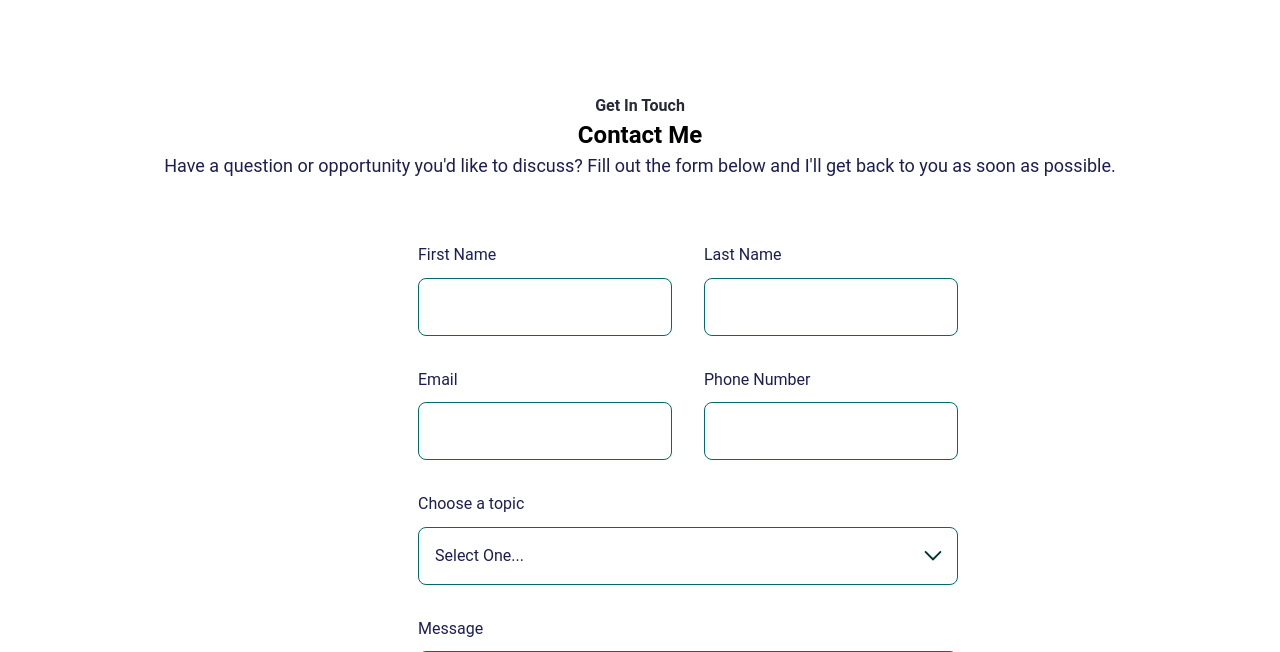
Test: ContactMe form submission › posts every field to the configured endpoint
In the field labelled "First Name": coordinates (545, 307) [418, 278, 672, 336], type "Ada"
In the field labelled "Last Name": coordinates (831, 307) [704, 278, 958, 336], type "Lovelace"
In the field labelled "Email": coordinates (545, 431) [418, 402, 672, 460], type "ada@example.com"
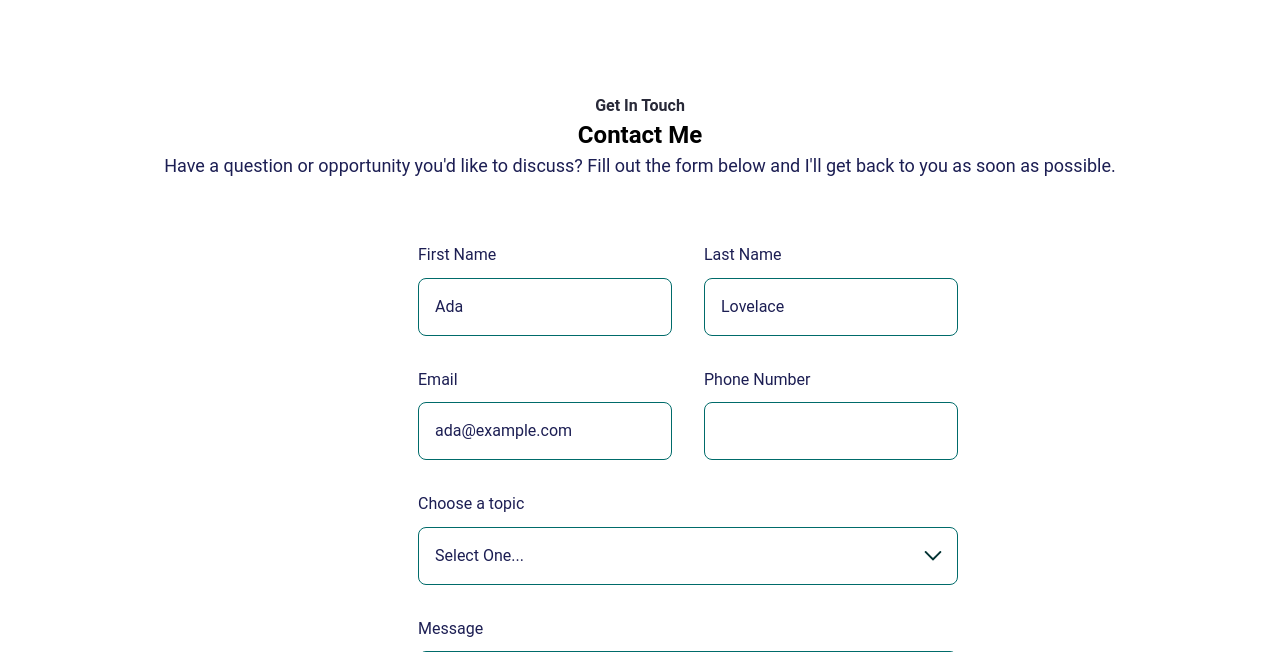
In the field labelled "Phone Number": coordinates (831, 431) [704, 402, 958, 460], type "5551234567"
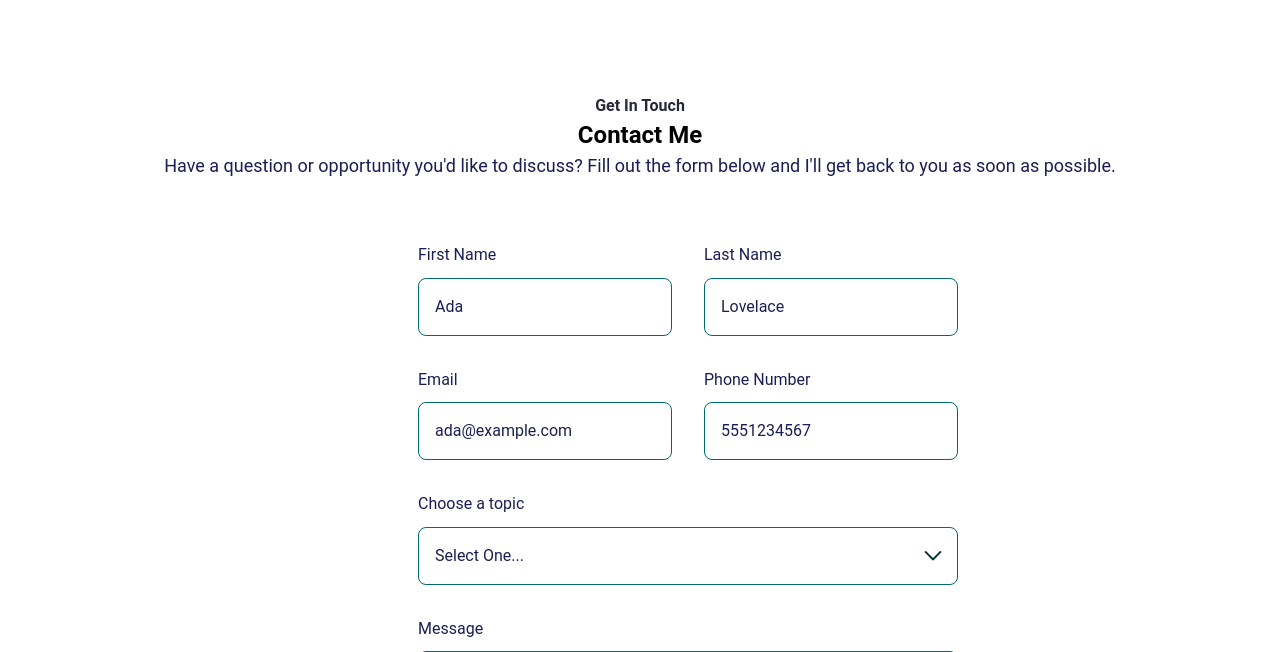
Select "Collaboration" in the dropdown labelled "Choose a topic": coordinates (688, 556) [418, 527, 958, 585]
(page scrolled)
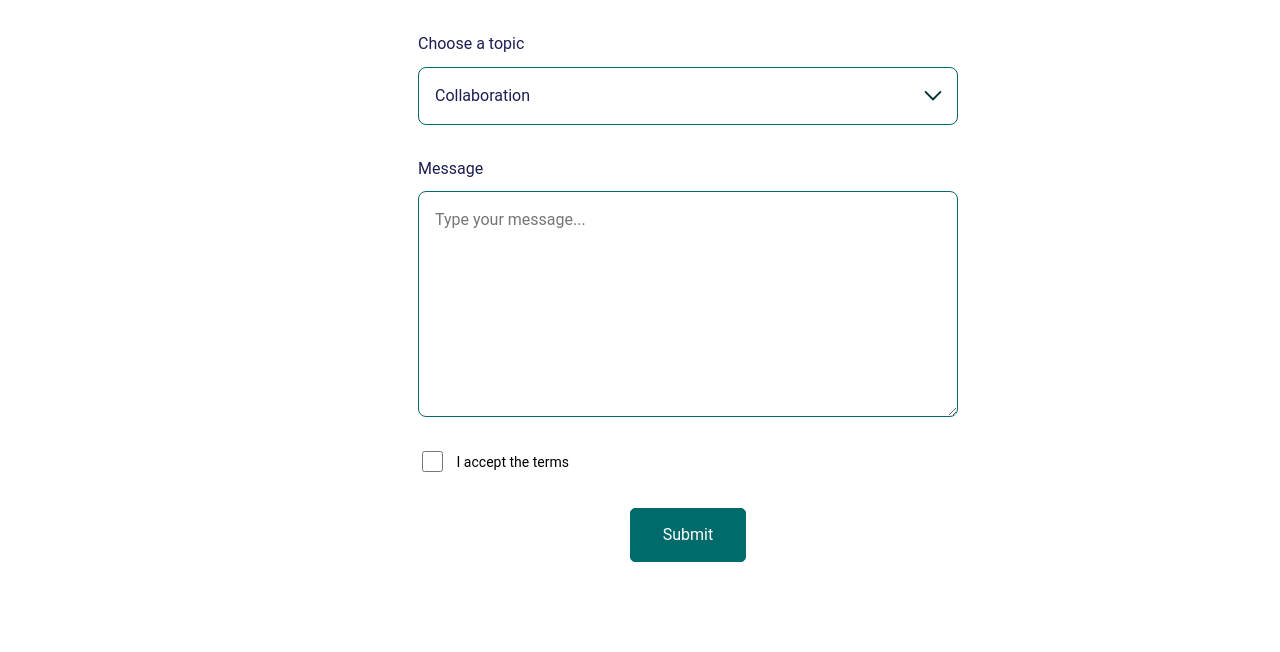
In the text box labelled "Message": coordinates (688, 304) [418, 191, 958, 417], type "Hello there."
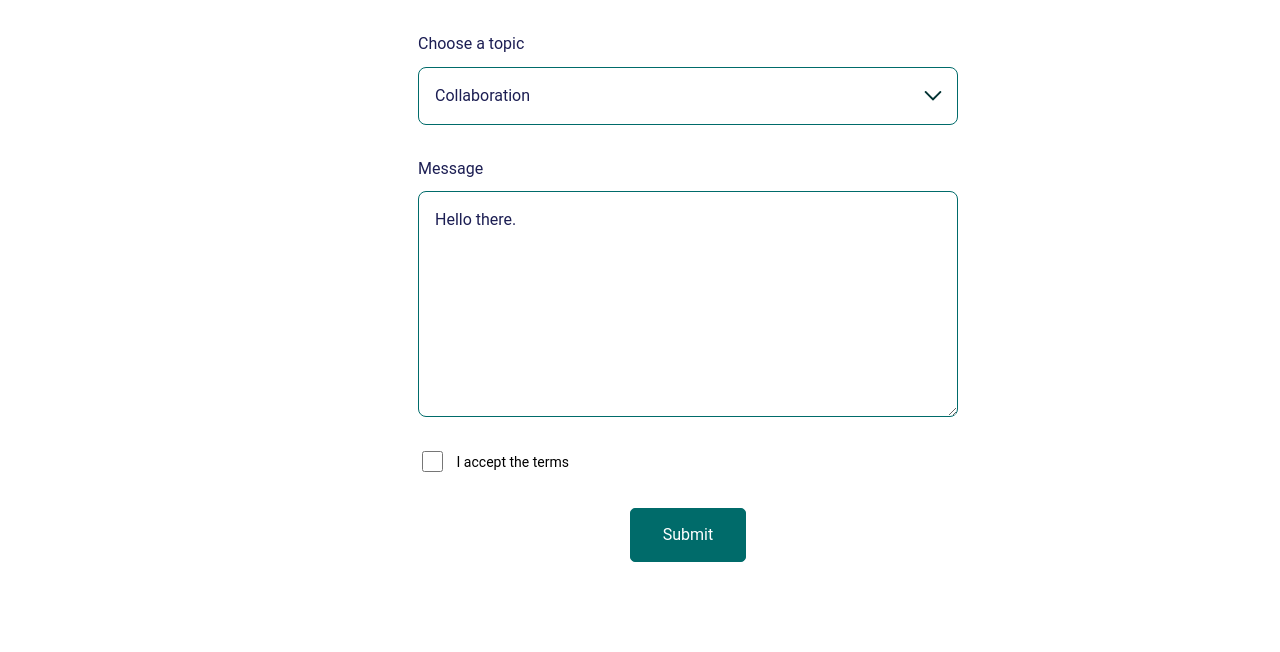
Click the checkbox labelled "I accept the terms": coordinates (432, 462) [422, 451, 443, 472]
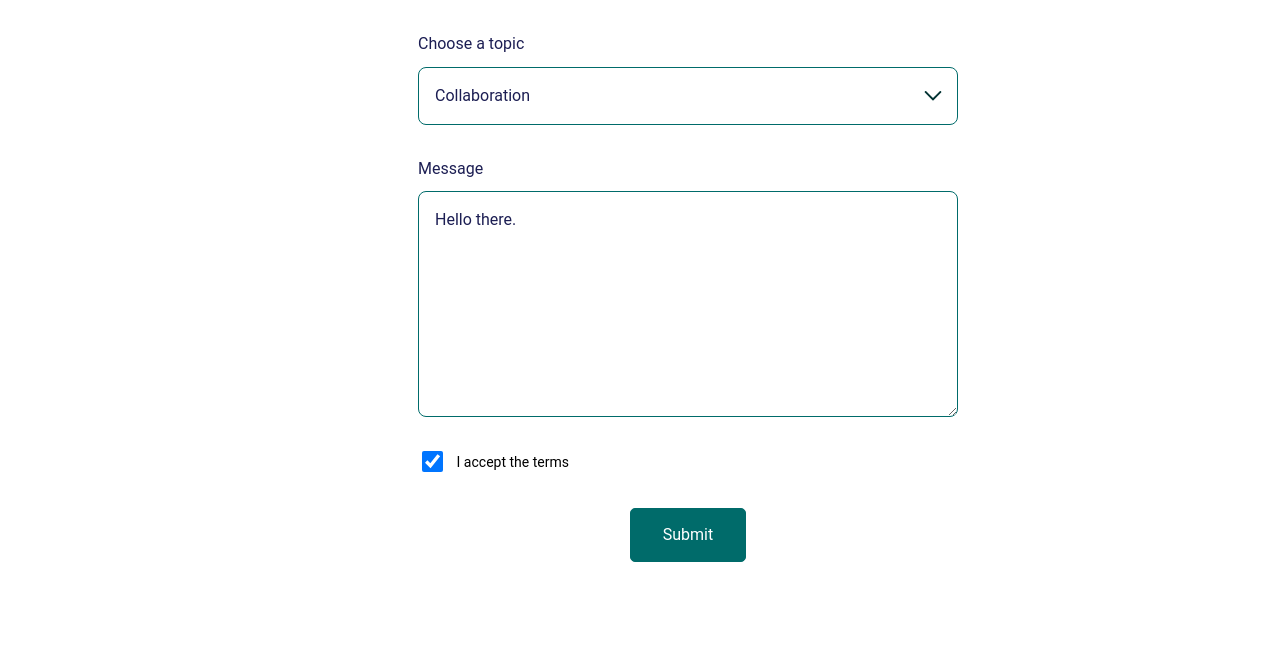
Click the button "Submit": coordinates (688, 535) [630, 508, 746, 562]
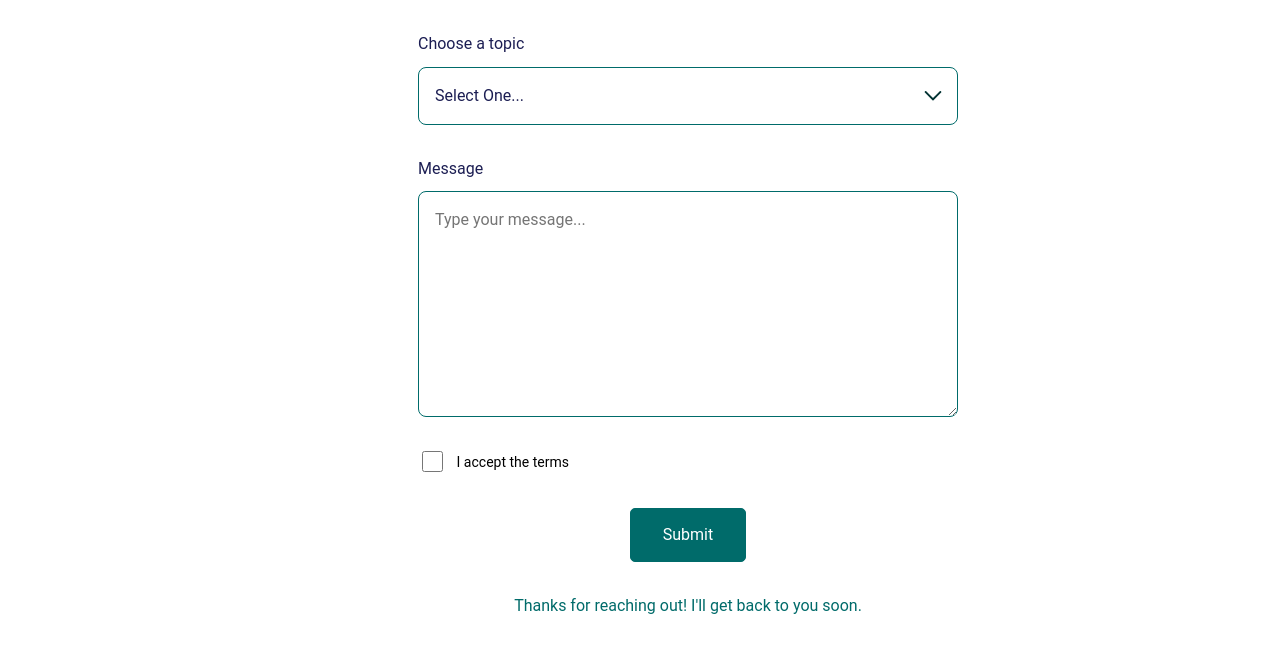
Expected: the text "Thanks for reaching out! I'll get back to you soon." is shown, [514, 596, 862, 615]
